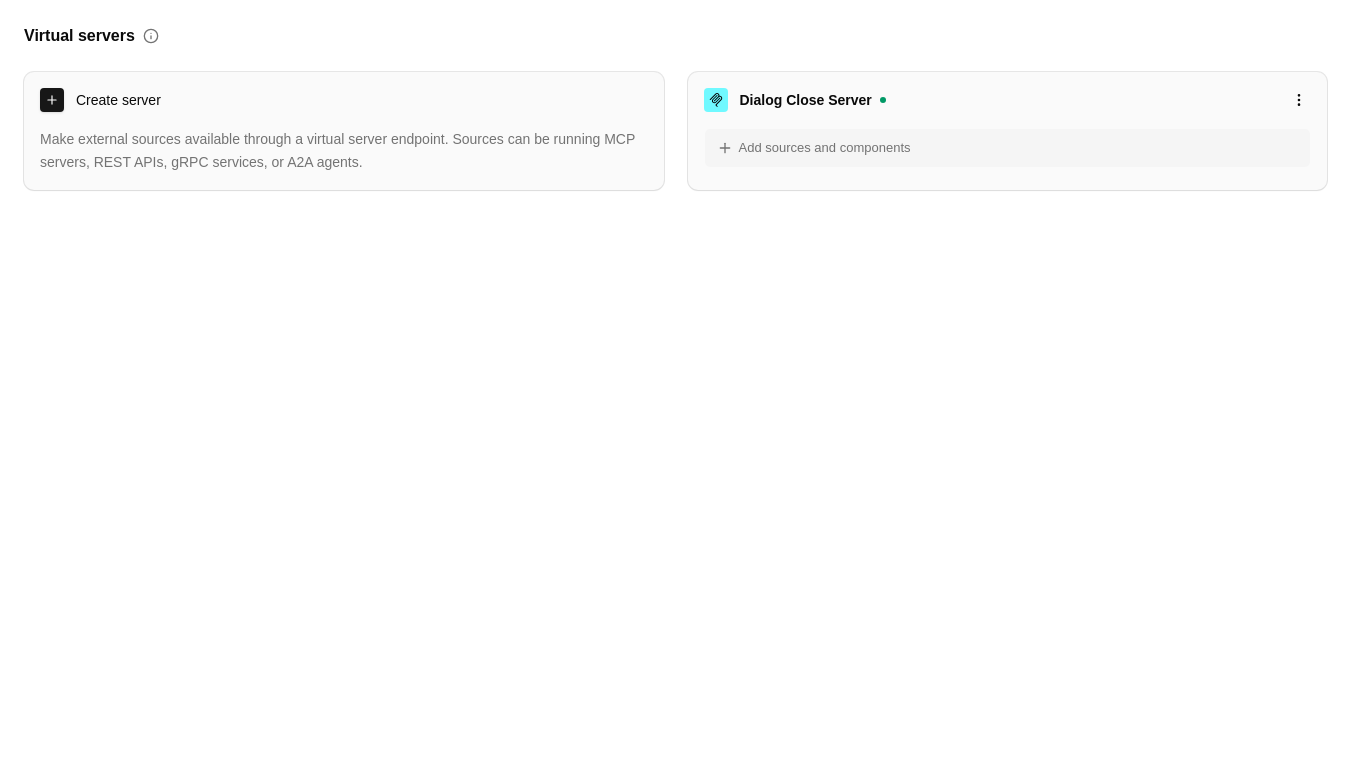
Scenario: Gateways › closes the dialog and clears form state immediately on confirm
Click the button named "Actions for Dialog Close Server".
click(1299, 100)  # box top-left (1287, 88), bottom-right (1311, 112)
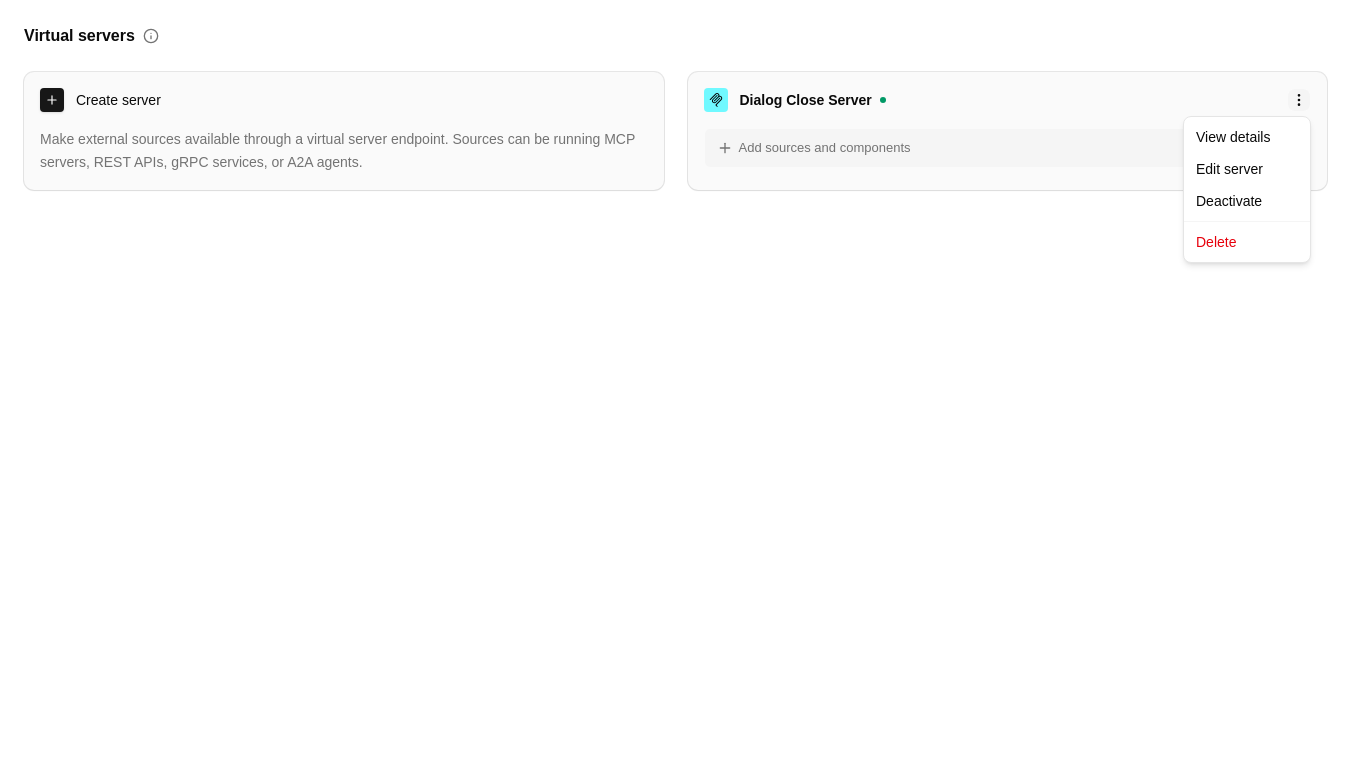
Click the menu item "Delete".
click(1216, 242)  # box top-left (1196, 234), bottom-right (1236, 250)
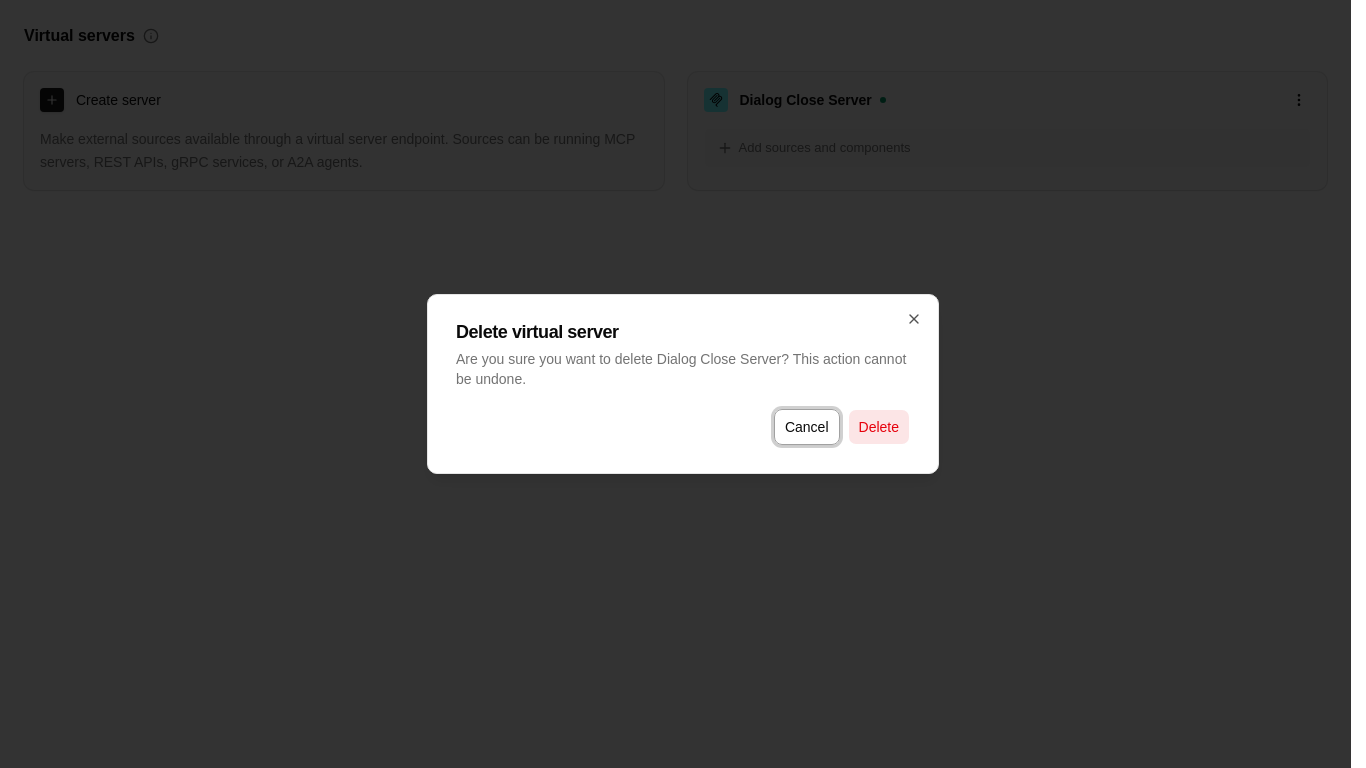
Result: the dialog is shown at top-left (427, 294), bottom-right (939, 474)
Click the button "Delete".
click(879, 427)  # box top-left (848, 409), bottom-right (910, 445)
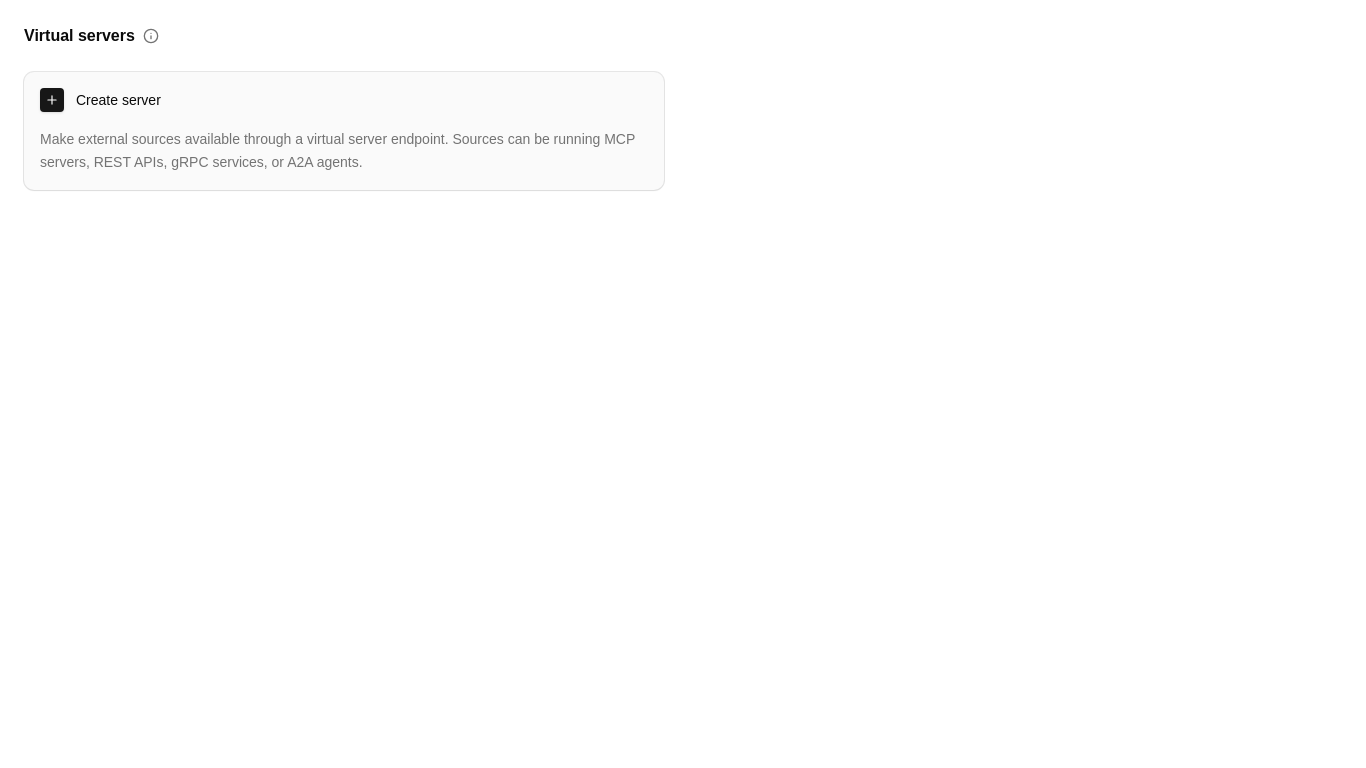
Result: the dialog is gone
